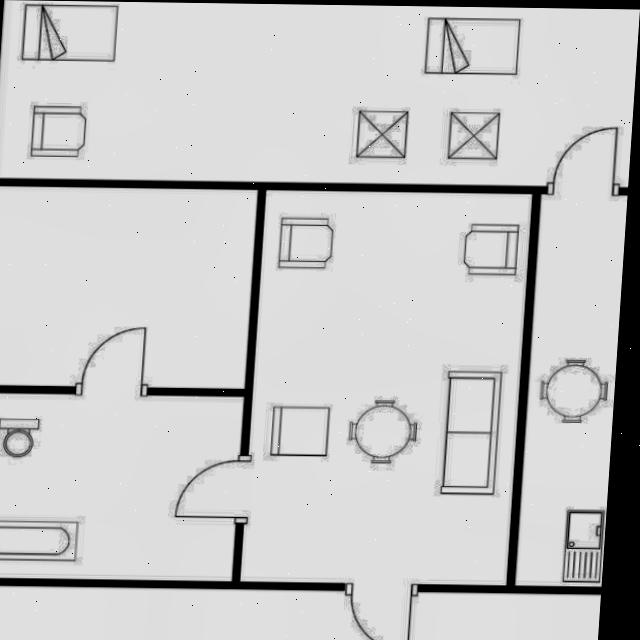room: (239, 176, 531, 599), (0, 0, 640, 188), (0, 393, 243, 582), (514, 190, 628, 591)
